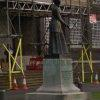Statue: (34, 2, 77, 87)
